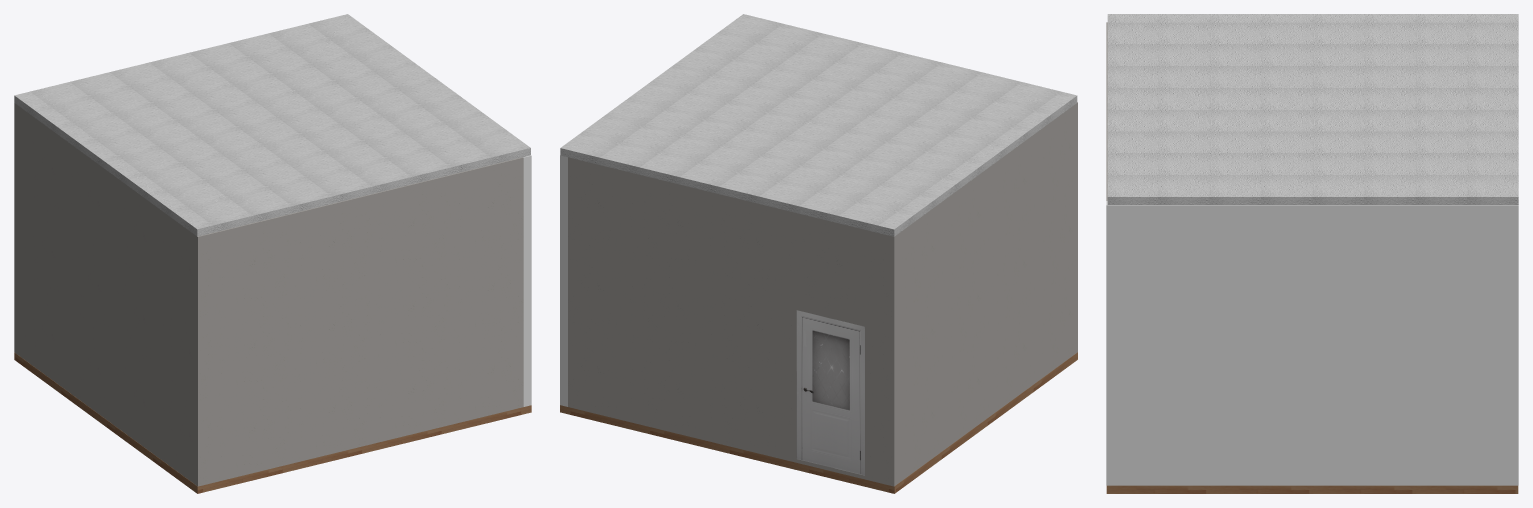
The model's file is room.fbx.
3 views of the same model, side by side, from view 1: azimuth 30°, elevation 25°; view 2: azimuth 150°, elevation 25°; view 3: azimuth 270°, elevation 25° (orthographic). The views are drawn at different scales.
Visible parts, largest first — view 1: Cube.009, Cube.001, Cube.003, Cube.004, Cube.005; view 2: Cube.010, Cube.001, Cube.003, Cube.002, Cube.004, Cube.005; view 3: Cube.005, Cube.001, Cube.004.
Boxes of the visible parts, x1,y1,x2,y2 form: Cube.009: [205, 157, 523, 484]; Cube.001: [14, 14, 530, 236]; Cube.003: [14, 103, 205, 486]; Cube.004: [14, 352, 531, 493]; Cube.005: [523, 155, 531, 406]; Cube.010: [568, 157, 886, 484]; Cube.001: [560, 14, 1077, 236]; Cube.003: [886, 102, 1077, 486]; Cube.002: [796, 310, 864, 475]; Cube.004: [560, 352, 1077, 493]; Cube.005: [560, 155, 567, 406]; Cube.005: [1106, 201, 1518, 485]; Cube.001: [1107, 14, 1518, 204]; Cube.004: [1106, 485, 1518, 493].
Size of the model in its own units: 421 by 318 by 400.
